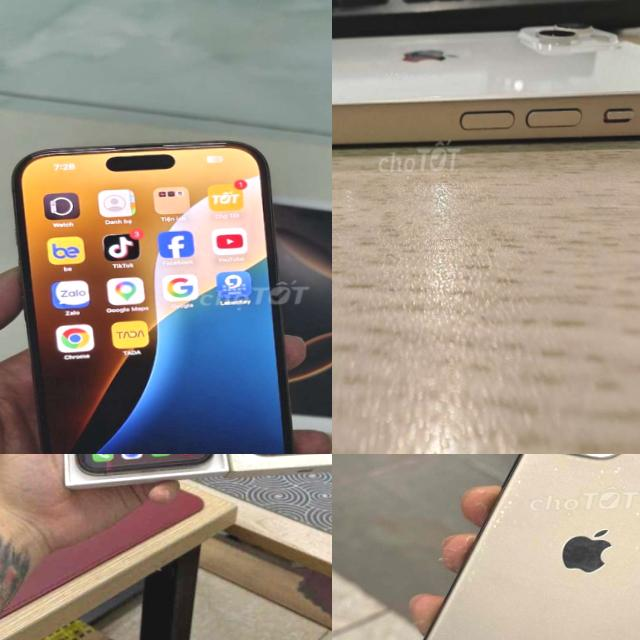gen_11: (391, 454, 640, 640)
gen_12_13: (332, 19, 640, 155)
gen_16: (13, 141, 292, 454)
scratch: (445, 478, 528, 580)
